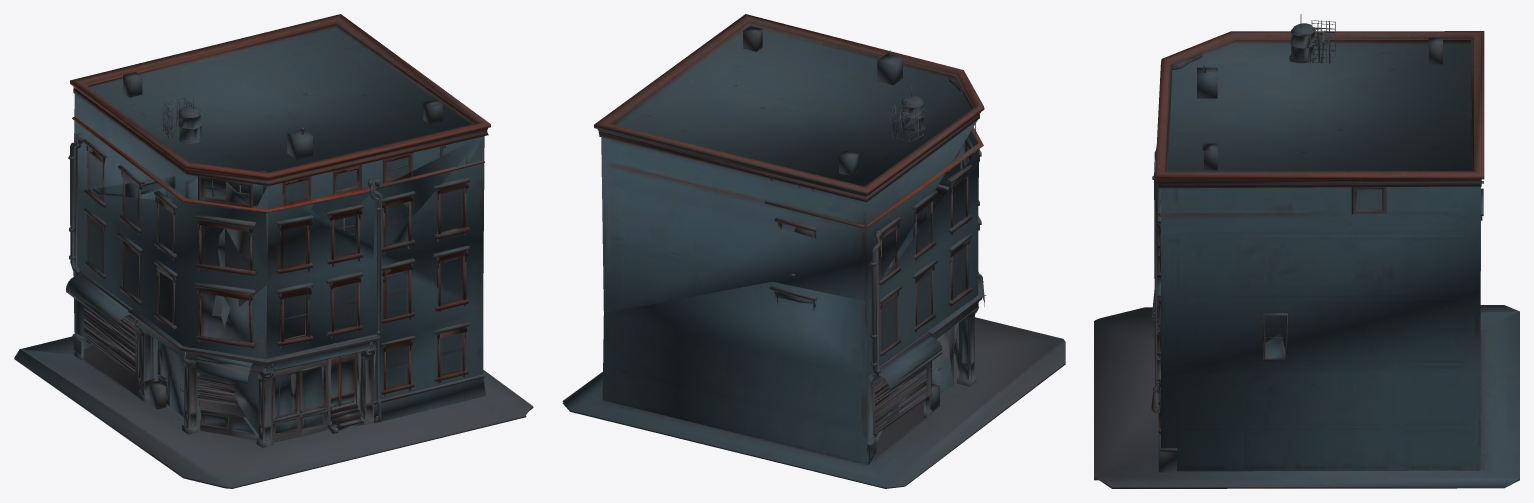
The picture shows the model from 3 angles, left to right: view 1: azimuth 30°, elevation 25°; view 2: azimuth 150°, elevation 25°; view 3: azimuth 270°, elevation 25°; orthographic projection. The views are drawn at different scales.
Bounding box in the file's own units: 0.9487 × 0.8247 × 0.9384.
Materials: 1 (1 with a texture image).
